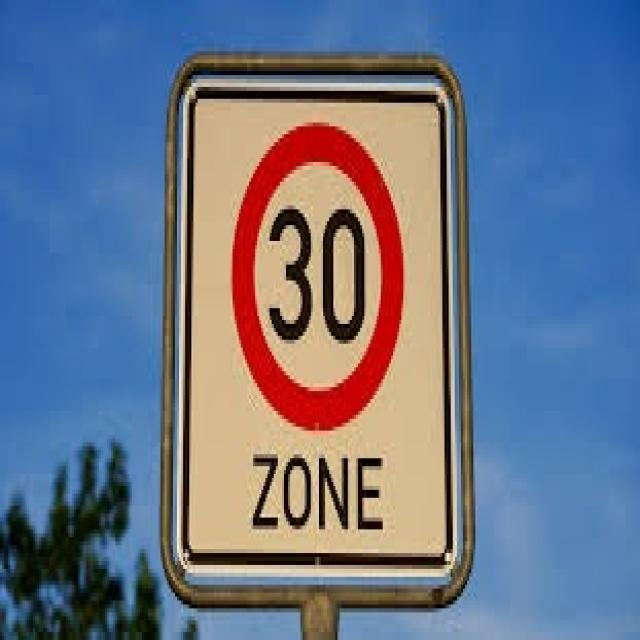speed_limit_30: (228, 119, 408, 436)
